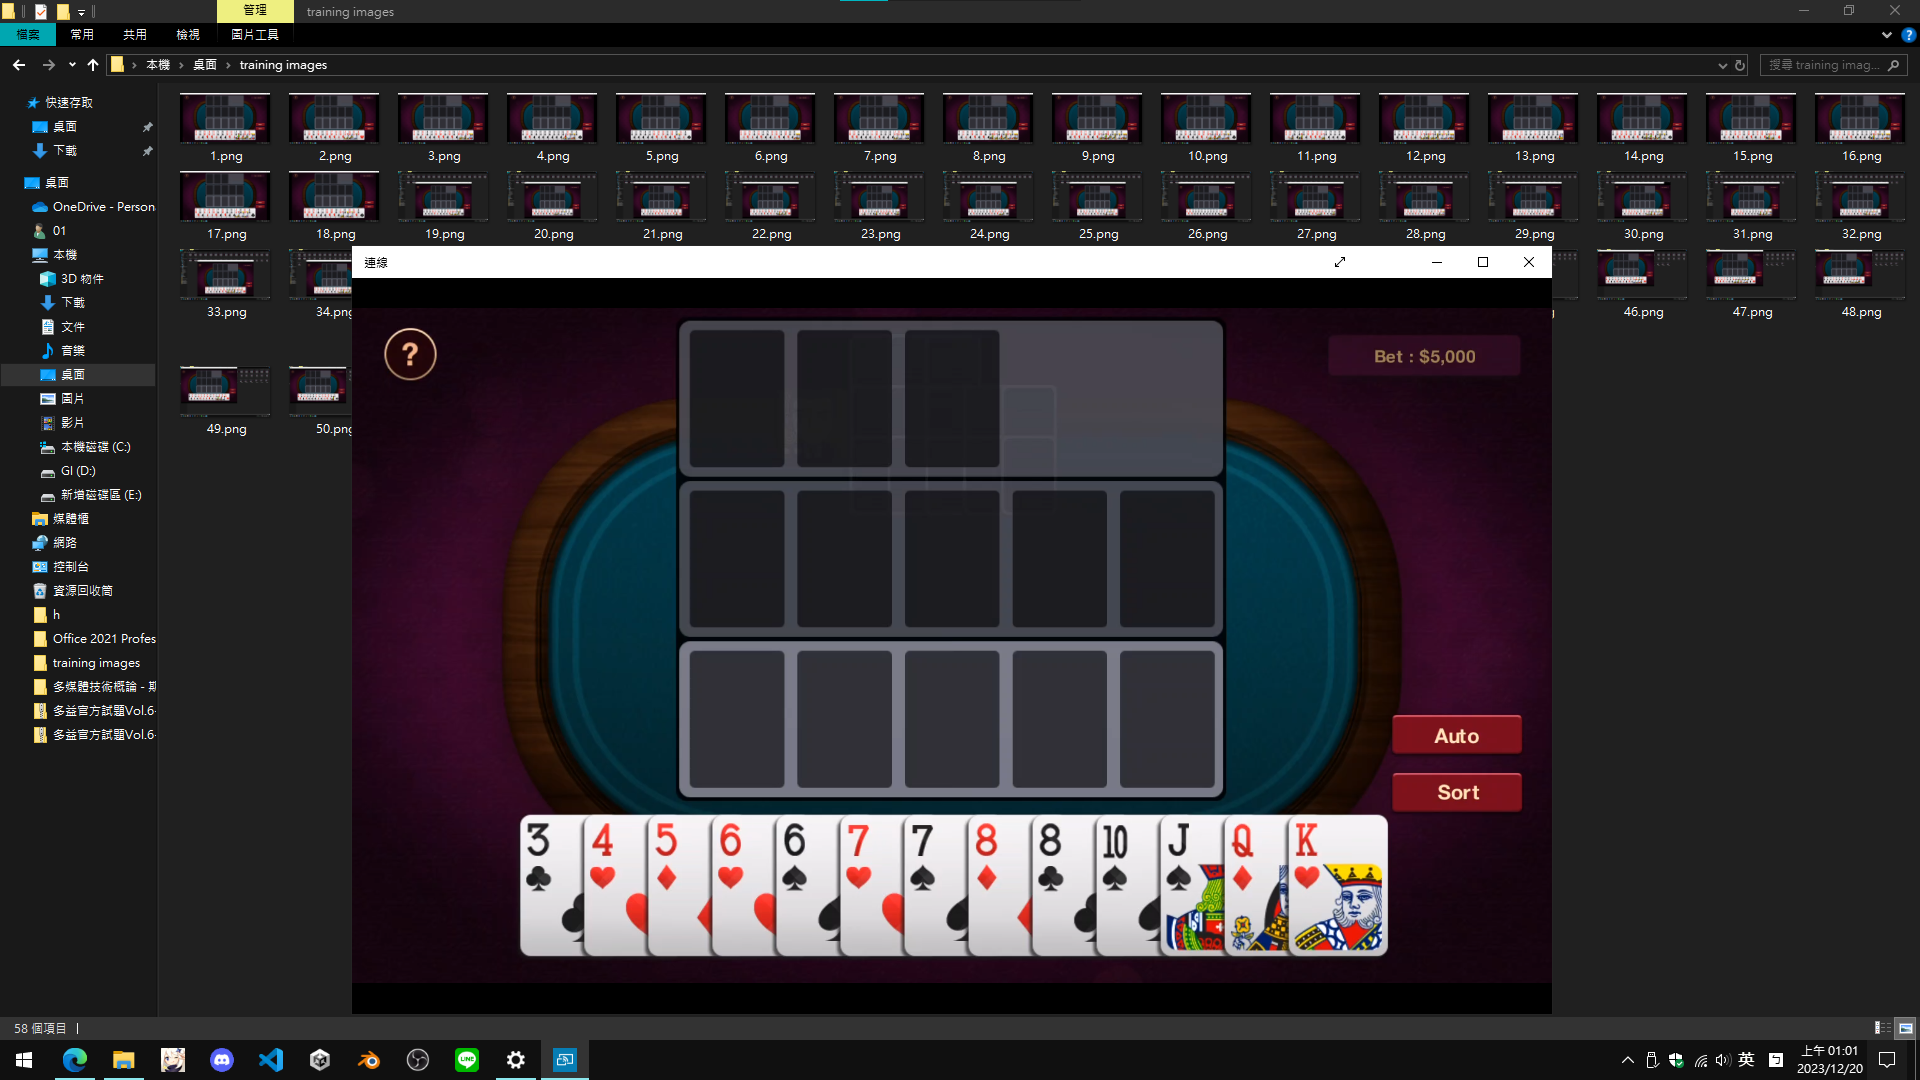10S: (1101, 822, 1129, 894)
3C: (524, 820, 555, 895)
4H: (588, 820, 620, 893)
5D: (653, 820, 683, 895)
6H: (715, 822, 746, 891)
6S: (779, 819, 812, 897)
7H: (845, 822, 874, 894)
7S: (909, 822, 939, 899)
8C: (1035, 820, 1067, 897)
8D: (972, 820, 1002, 895)
JS: (1164, 819, 1195, 895)
KH: (1292, 818, 1323, 890)
QD: (1230, 822, 1255, 893)
